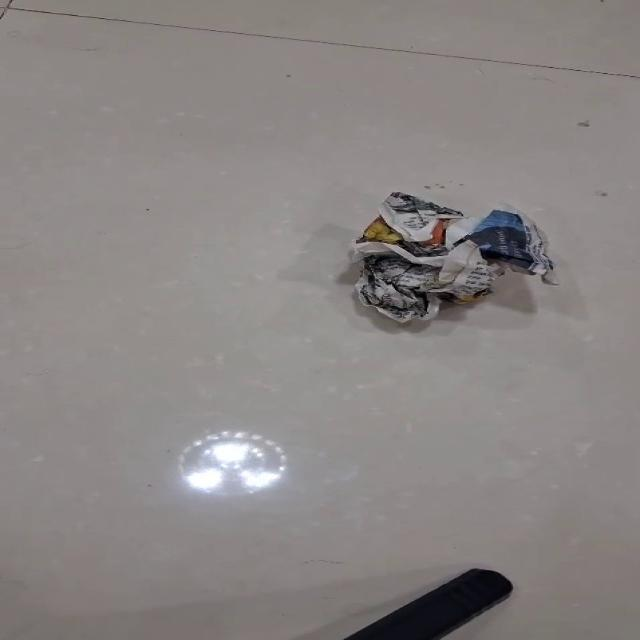paper: (350, 190, 558, 324)
